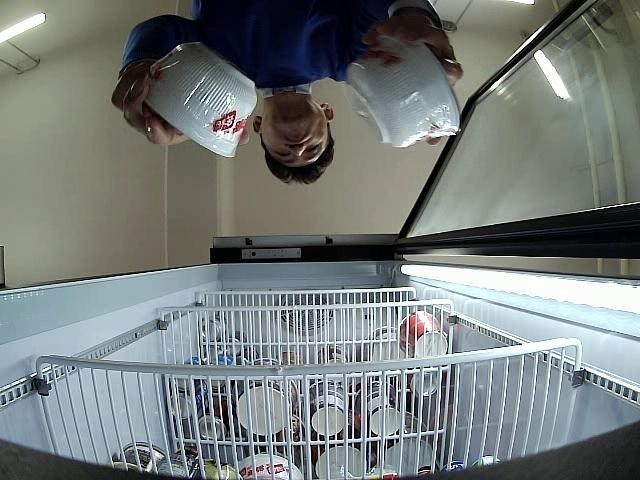09_yukGaeJang: (144, 44, 258, 157), (348, 36, 459, 148)
